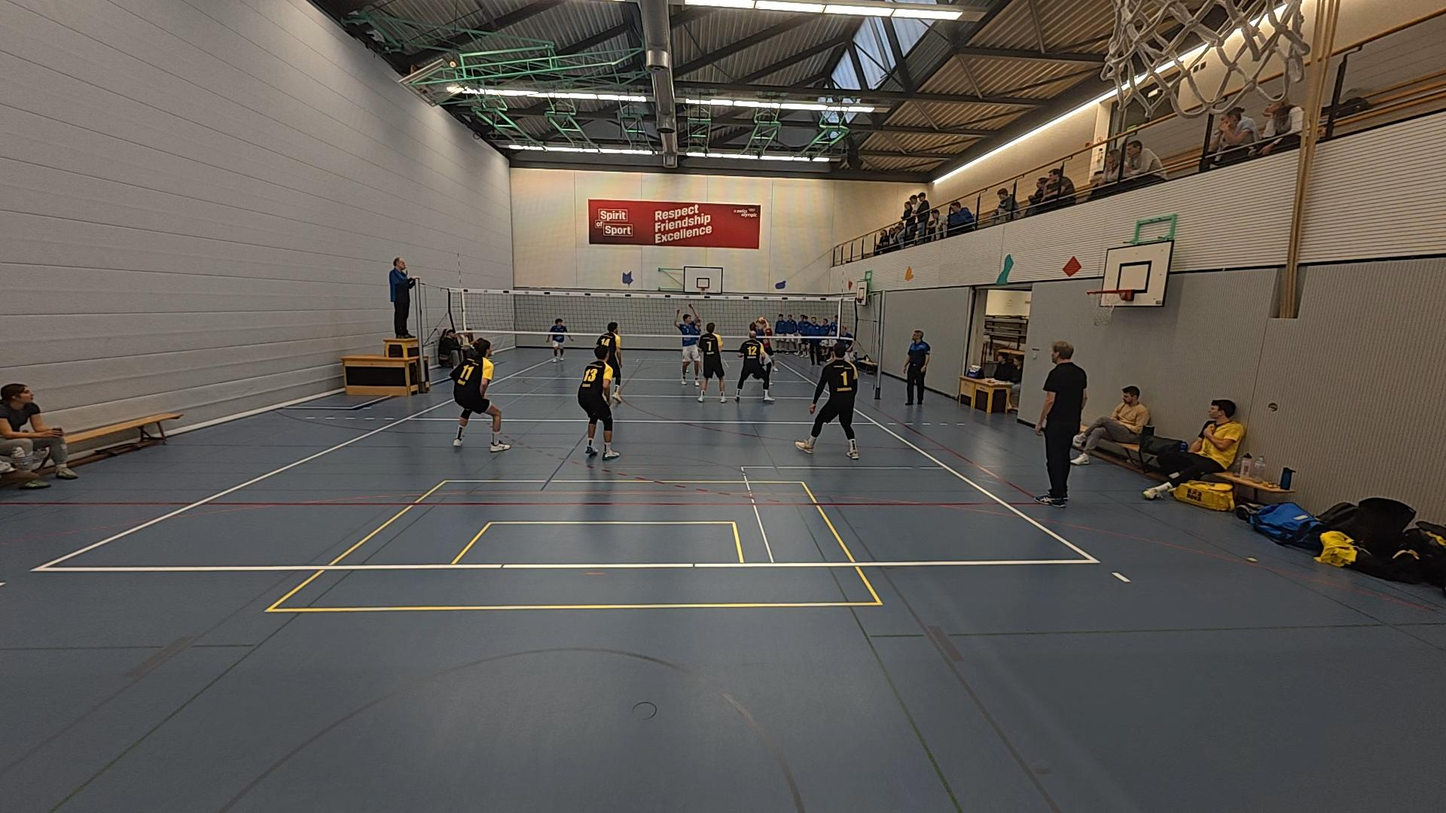Player: (796, 345, 860, 458), (452, 340, 508, 452), (577, 347, 620, 460), (729, 323, 774, 403), (696, 321, 727, 402), (597, 321, 625, 402), (753, 314, 781, 376), (676, 309, 700, 381), (548, 316, 569, 361), (836, 323, 858, 362)
Set: (748, 314, 774, 385)
ball: (756, 315, 767, 325)
